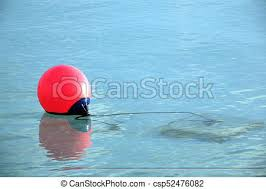buoy: (37, 65, 92, 115)
